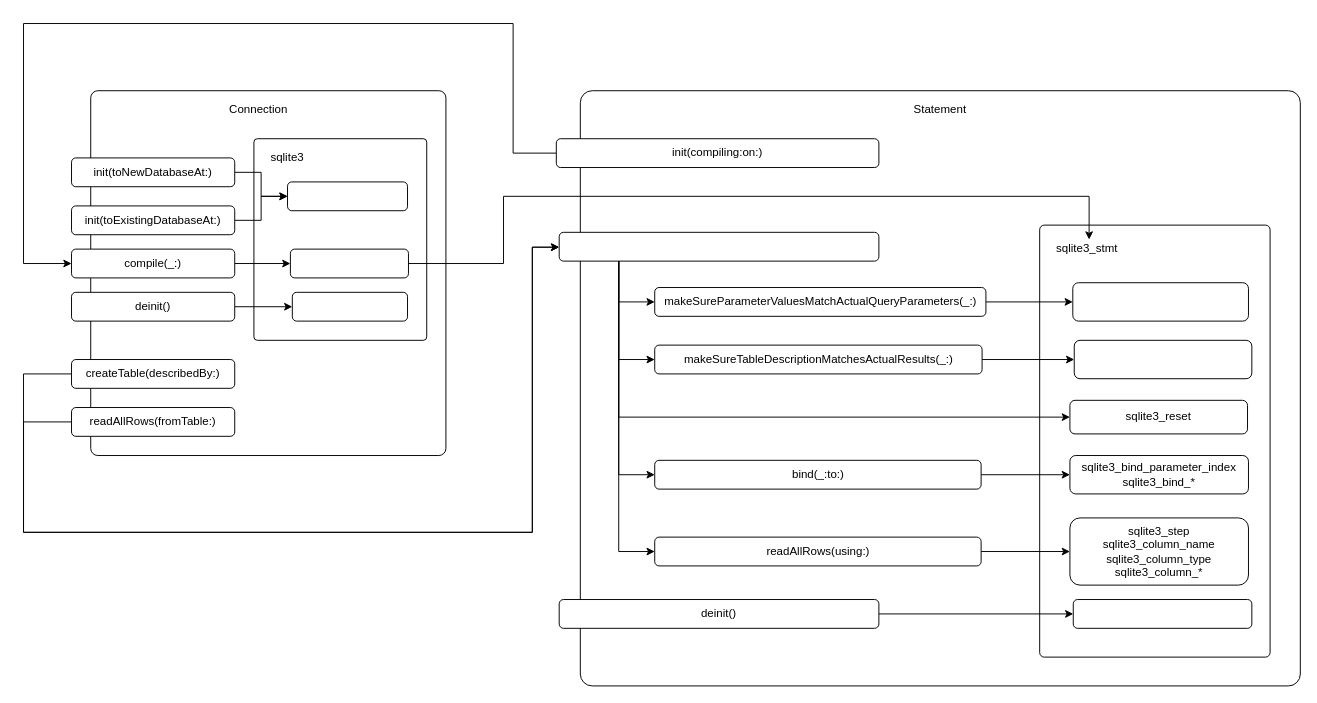
Some shapes in this 1317 by 703 pixel diagram are drawn without their labels. Here are the shapes that lost their labels. From the top down, the box of each, then its label:
(287, 181, 408, 211): sqlite3_open
(289, 248, 408, 278): sqlite3_prepare_v2
(558, 231, 879, 261): runThroughCompletion(with:readingResultRowsWith:)
(291, 291, 408, 321): sqlite3_close
(1072, 282, 1248, 321): sqlite3_bind_parameter_count sqlite3_bind_parameter_name
(1073, 339, 1252, 379): sqlite3_column_count sqlite3_column_name
(1072, 599, 1252, 628): sqlite3_finalize
